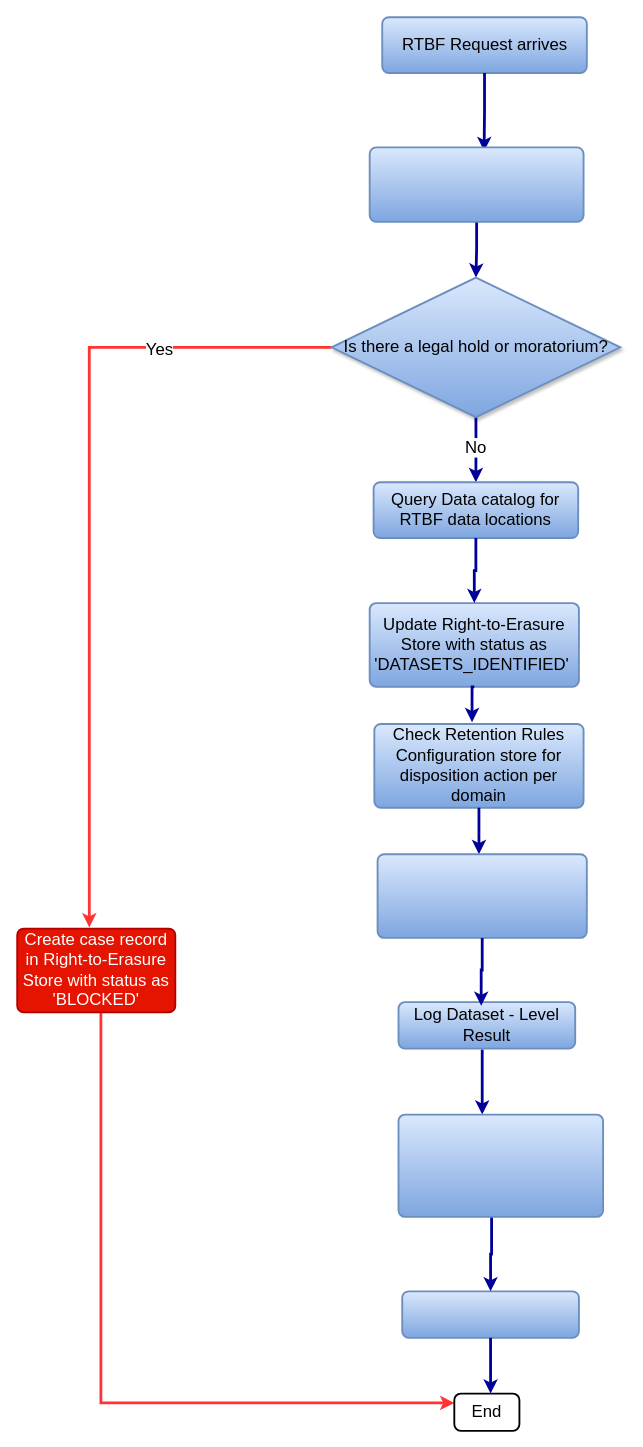
This 643x1447 diagram has some shape labels left out. The centre of each missing label's shape, as x and y in pixels:
"Create case record in Right-to-Erasure Store with status as 'RECEIVED'" belongs at [476,184].
"Execute Disposition Action on identified data in Data Factory" belongs at [481,895].
"Update Right-to-Erasure Store with status as 'DELETION COMPLETE'" belongs at [500,1165].
"Write run summary to Audit Log" belongs at [490,1314].
